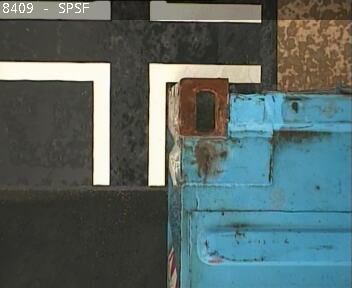groundmarker_1: (1, 59, 260, 185)
